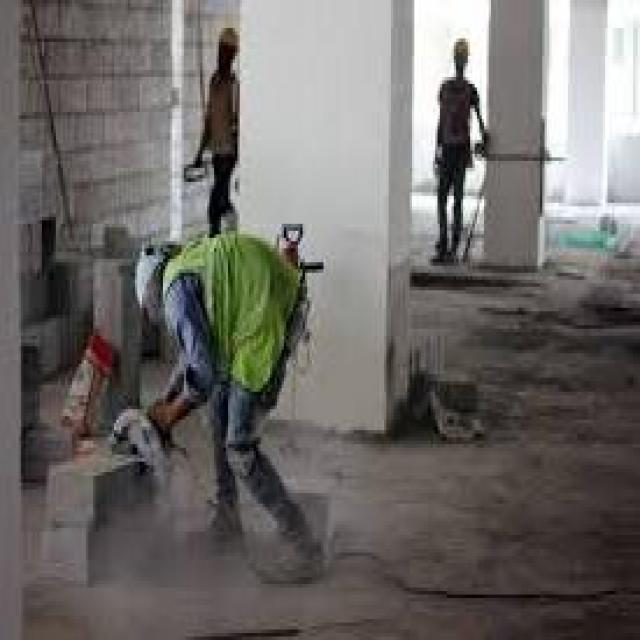Reflective-Jacket: (156, 224, 316, 423)
Safety-Helmet: (121, 234, 175, 329)
